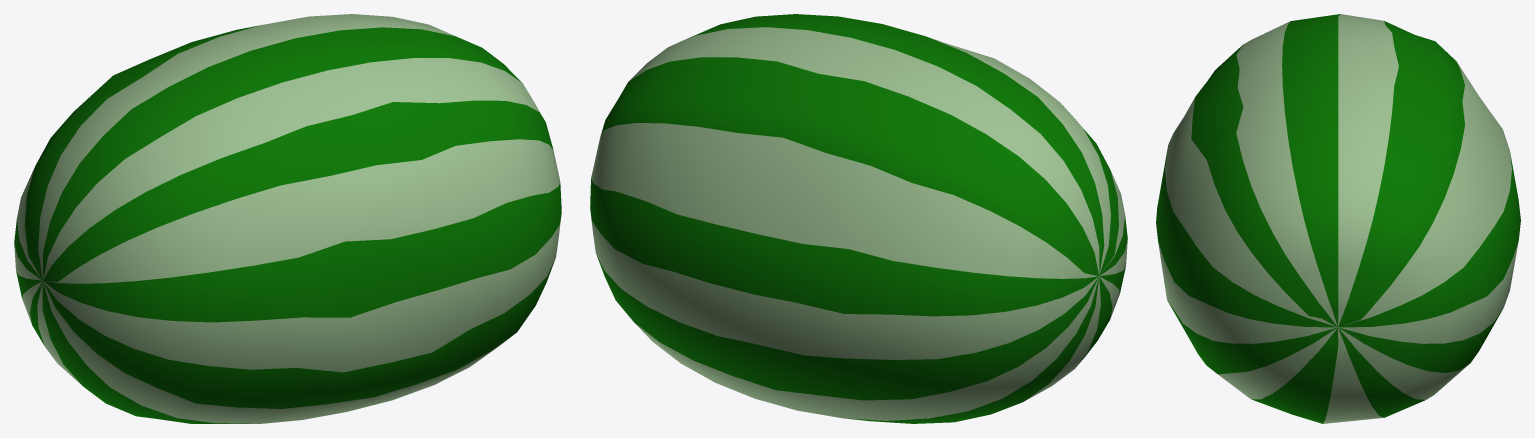
Rendered from Watermelon.fbx.
The picture shows the model from 3 angles, left to right: view 1: azimuth 30°, elevation 25°; view 2: azimuth 150°, elevation 25°; view 3: azimuth 270°, elevation 25°; orthographic projection. The views are drawn at different scales.
Parts seen in each view (by area): view 1: Watermelon; view 2: Watermelon; view 3: Watermelon.
Boxes of the visible parts, box(x1,y1,x2,y2) form: Watermelon: box(14, 14, 561, 423); Watermelon: box(590, 14, 1127, 423); Watermelon: box(1156, 14, 1520, 423).
Size of the model in its own units: 30.75 by 21.56 by 22.35.
